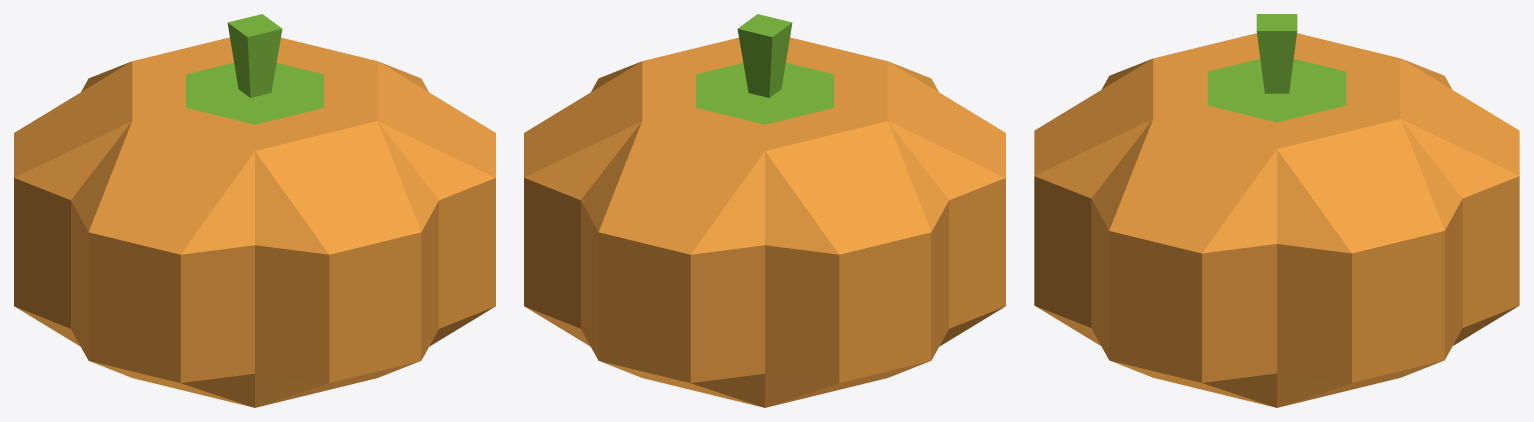
File: pumpkin.glb
The picture shows the model from 3 angles, left to right: view 1: azimuth 30°, elevation 25°; view 2: azimuth 150°, elevation 25°; view 3: azimuth 270°, elevation 25°; orthographic projection.
Parts seen in each view (by area): view 1: crop_pumpkin; view 2: crop_pumpkin; view 3: crop_pumpkin.
Boxes of the visible parts, left/top/right/bottom form: crop_pumpkin: left=14, top=14, right=495, bottom=407; crop_pumpkin: left=524, top=14, right=1005, bottom=407; crop_pumpkin: left=1034, top=14, right=1519, bottom=407.
Bounding box in the file's own units: 0.5295 × 0.4006 × 0.5423.
